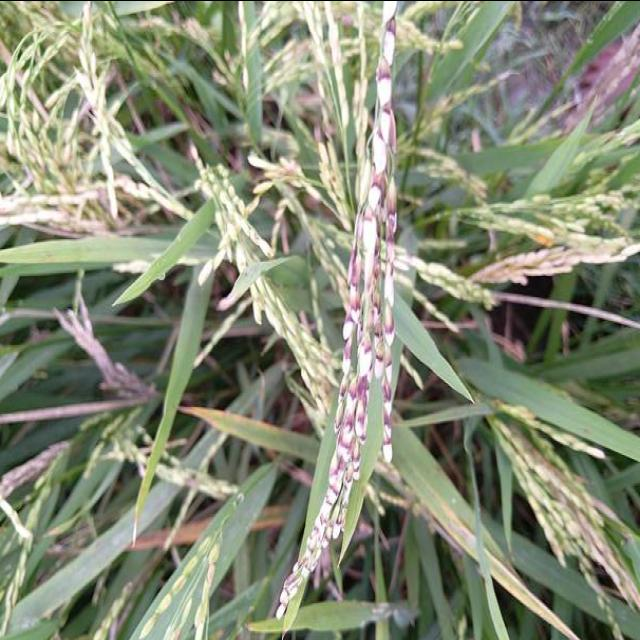Panicle Blight: (276, 17, 398, 617)
